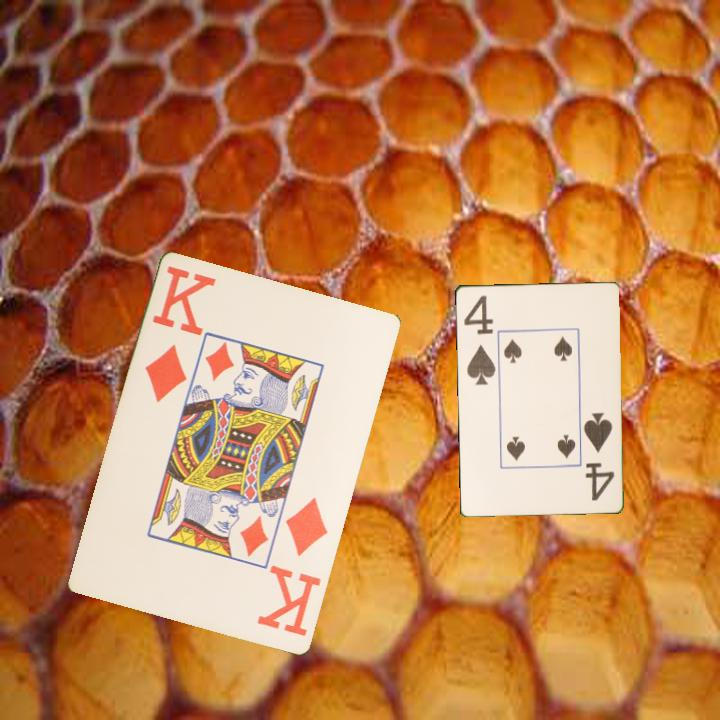4s: (460, 292, 498, 388), (580, 409, 617, 503)
Kd: (253, 494, 332, 640), (141, 262, 218, 406)
